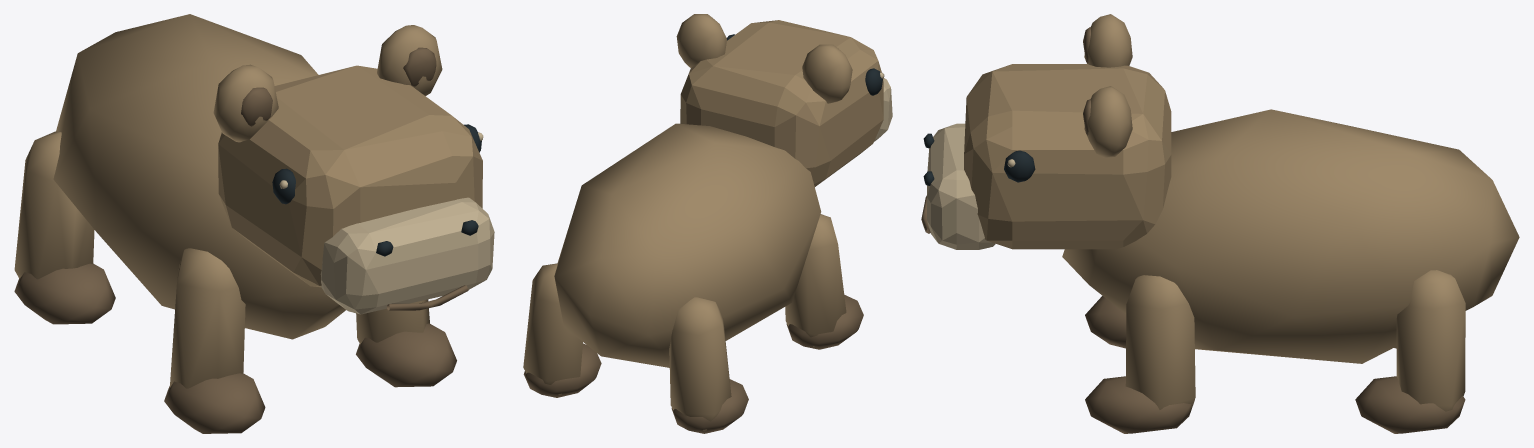
The model's file is org_capybara.glb.
3 views of the same model, side by side, from view 1: azimuth 30°, elevation 25°; view 2: azimuth 150°, elevation 25°; view 3: azimuth 270°, elevation 25° (orthographic). The views are drawn at different scales.
Parts seen in each view (by area): view 1: Head, Body, Leg_FR, Leg_BR, Leg_FL, Eye_R; view 2: Body, Head, Leg_BR, Leg_FR, Leg_BL, Eye_R; view 3: Body, Head, Leg_BL, Leg_FL, Leg_FR, Eye_L.
Boxes of the visible parts, x1,y1,x2,y2 form: Head: [213, 25, 494, 314]; Body: [53, 14, 345, 339]; Leg_FR: [164, 248, 265, 433]; Leg_BR: [14, 131, 115, 324]; Leg_FL: [356, 299, 456, 387]; Eye_R: [272, 168, 295, 204]; Body: [554, 123, 821, 367]; Head: [676, 14, 892, 186]; Leg_BR: [669, 297, 748, 433]; Leg_FR: [785, 214, 863, 349]; Leg_BL: [523, 263, 601, 397]; Eye_R: [865, 68, 884, 95]; Body: [1062, 109, 1519, 363]; Head: [921, 14, 1171, 249]; Leg_BL: [1355, 270, 1465, 433]; Leg_FL: [1085, 275, 1195, 433]; Leg_FR: [1085, 296, 1126, 348]; Eye_L: [1004, 150, 1035, 182].
Bounding box in the file's own units: 0.5422 × 0.6992 × 1.14.
